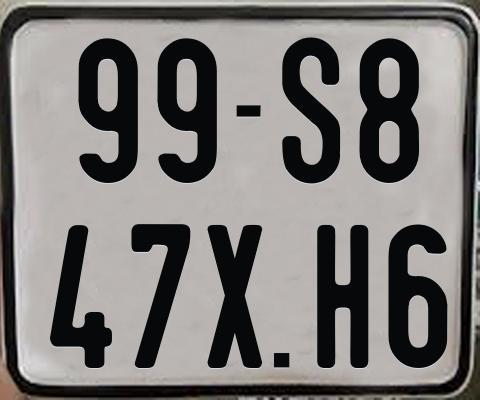4: (48, 224, 116, 372)
6: (387, 221, 449, 365)
7: (129, 224, 194, 371)
8: (359, 36, 419, 183)
9: (156, 35, 222, 180), (77, 35, 142, 182)
H: (316, 222, 368, 371)
S: (281, 35, 343, 184)
X: (207, 224, 268, 371)
